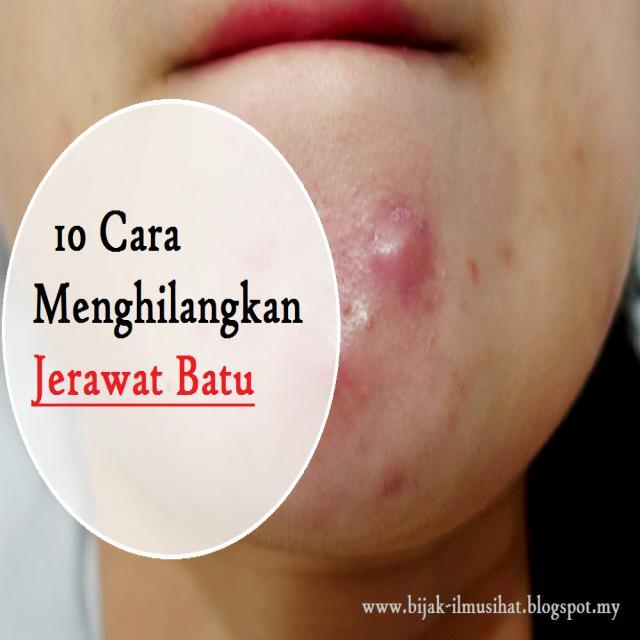acne: (339, 188, 444, 416), (444, 350, 500, 444), (464, 238, 520, 289), (370, 462, 418, 506), (570, 134, 592, 180)
